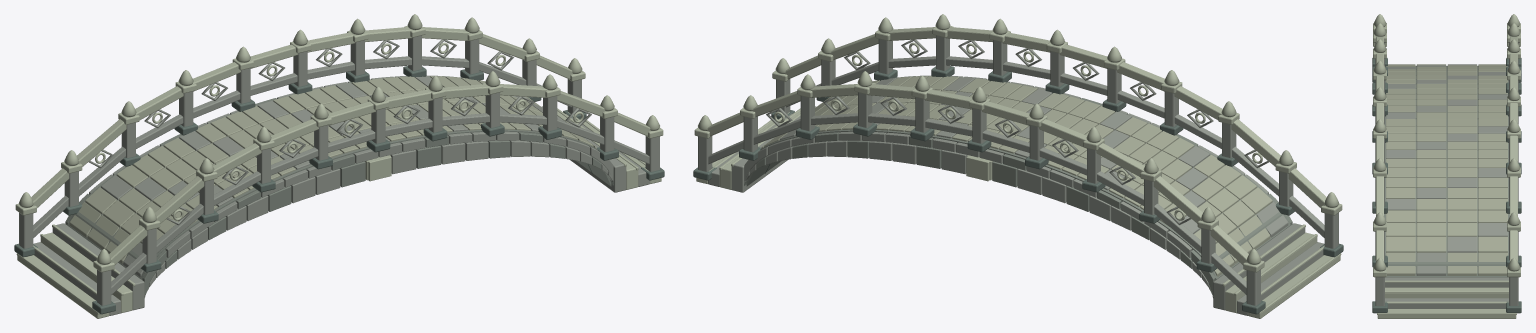
The model's file is arch_bridge.glb.
The picture shows the model from 3 angles, left to right: view 1: azimuth 30°, elevation 25°; view 2: azimuth 150°, elevation 25°; view 3: azimuth 270°, elevation 25°; orthographic projection. The views are drawn at different scales.
Parts seen in each view (by area): view 1: arch_bridge; view 2: arch_bridge; view 3: arch_bridge.
Part boxes in pixels (box(x1,y1,x2,y2)): arch_bridge: box(14, 14, 664, 318); arch_bridge: box(693, 14, 1343, 318); arch_bridge: box(1372, 14, 1521, 318).
Bounding box in the file's own units: 9.01 × 2.48 × 2.4.
1 material, 1 textured.
